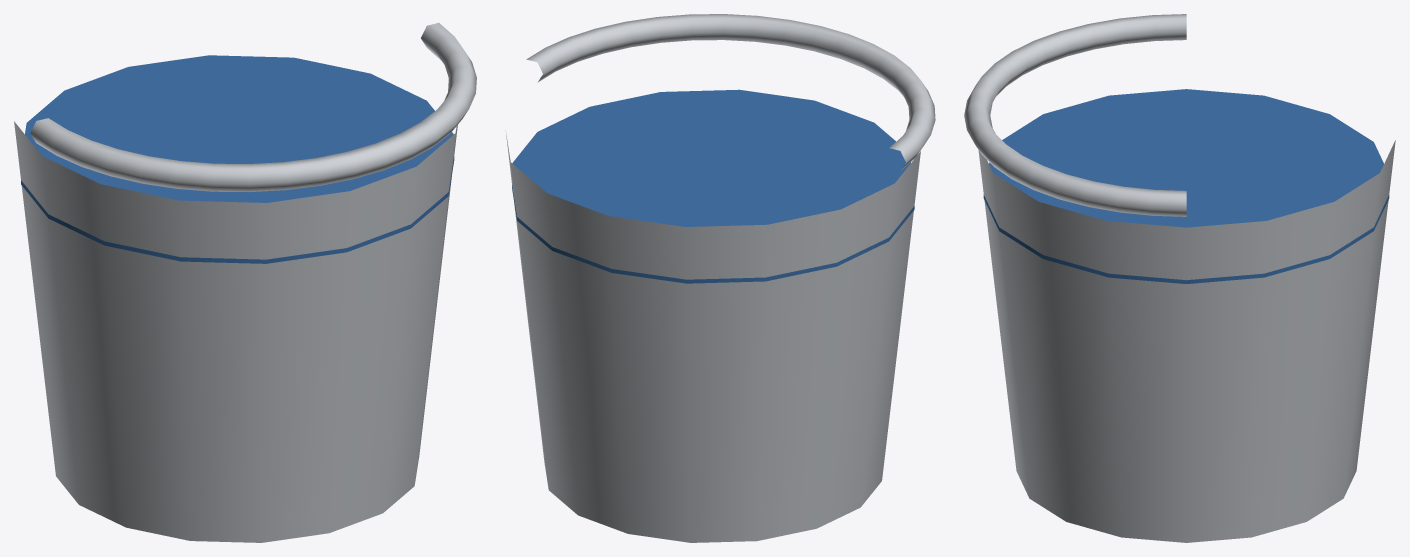
The model's file is water_bucket.glb.
The picture shows the model from 3 angles, left to right: view 1: azimuth 30°, elevation 25°; view 2: azimuth 150°, elevation 25°; view 3: azimuth 270°, elevation 25°; orthographic projection. The views are drawn at different scales.
Visible parts, largest first — view 1: pail, liquid, handle; view 2: pail, liquid, handle; view 3: pail, liquid, handle.
Boxes of the visible parts, left/top/right/bottom form: pail: left=14, top=121, right=457, bottom=542; liquid: left=21, top=55, right=454, bottom=263; handle: left=30, top=23, right=476, bottom=192; pail: left=505, top=130, right=920, bottom=542; liquid: left=512, top=89, right=914, bottom=283; handle: left=526, top=14, right=935, bottom=170; pail: left=978, top=140, right=1395, bottom=542; liquid: left=983, top=89, right=1389, bottom=283; handle: left=964, top=14, right=1186, bottom=216.
Bounding box in the file's own units: 0.34 × 0.3087 × 0.33.
